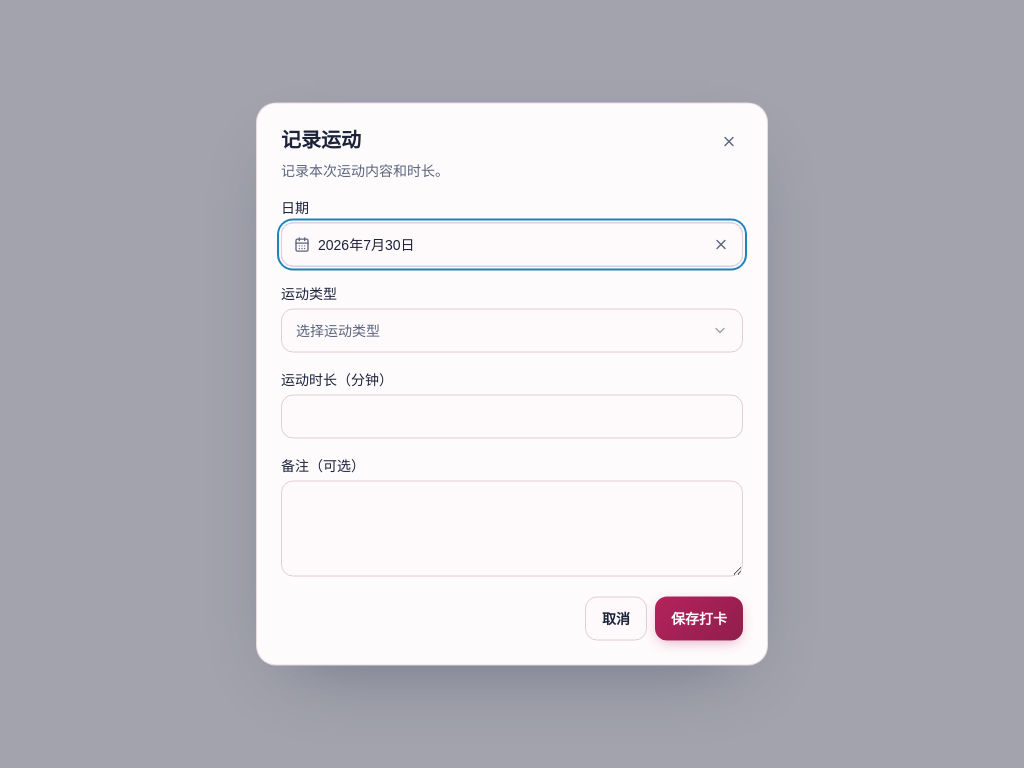
Test case: CheckinDialog › rejects durations above one day
Step 1. Click the dropdown labelled "运动类型" → click(338, 330), box [281,308,743,352]
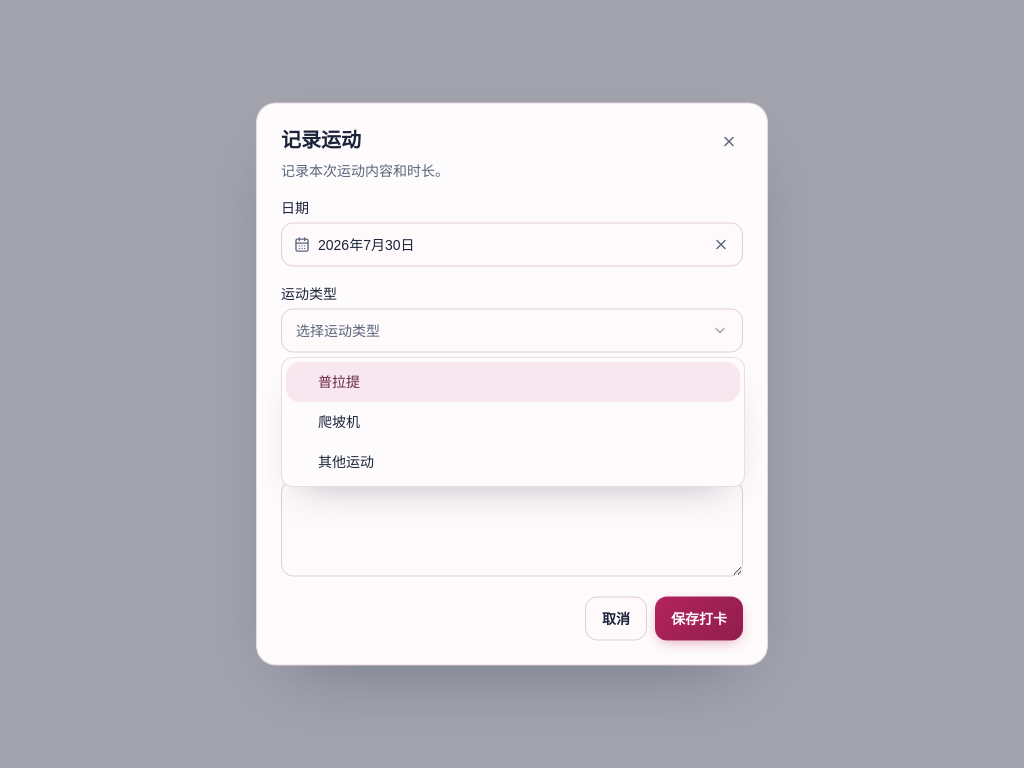
Step 2. Press Arrowdown Enter
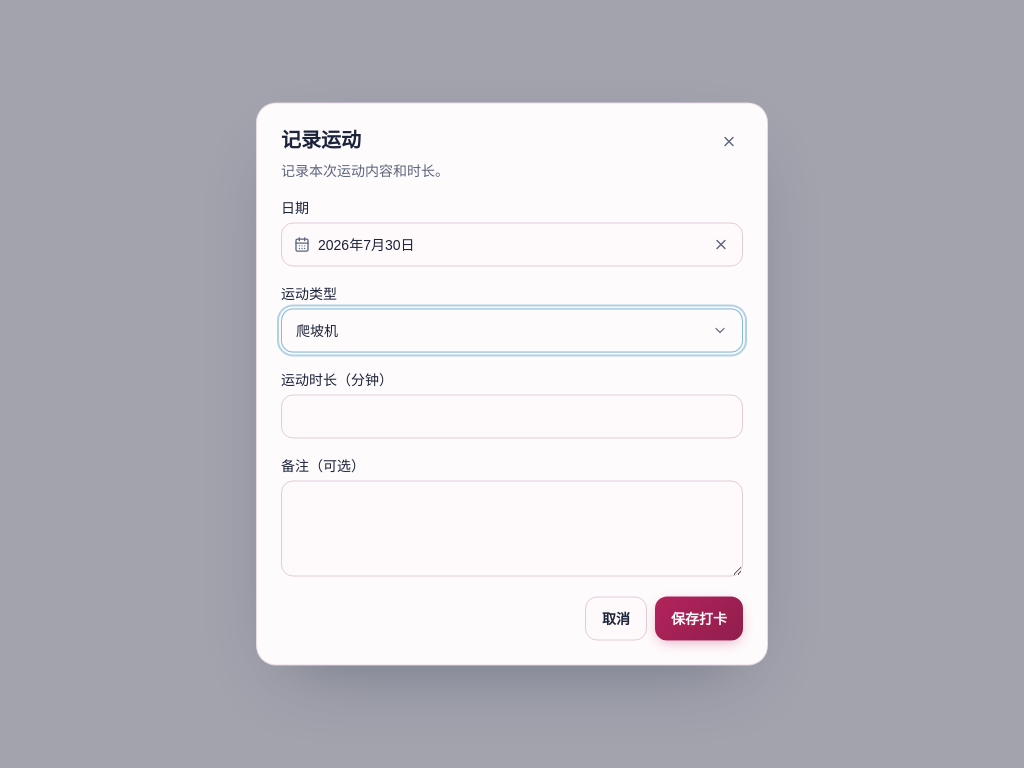
Step 3. Type "1441" into the number field labelled "运动时长（分钟）" → (512, 416), box [281,394,743,438]
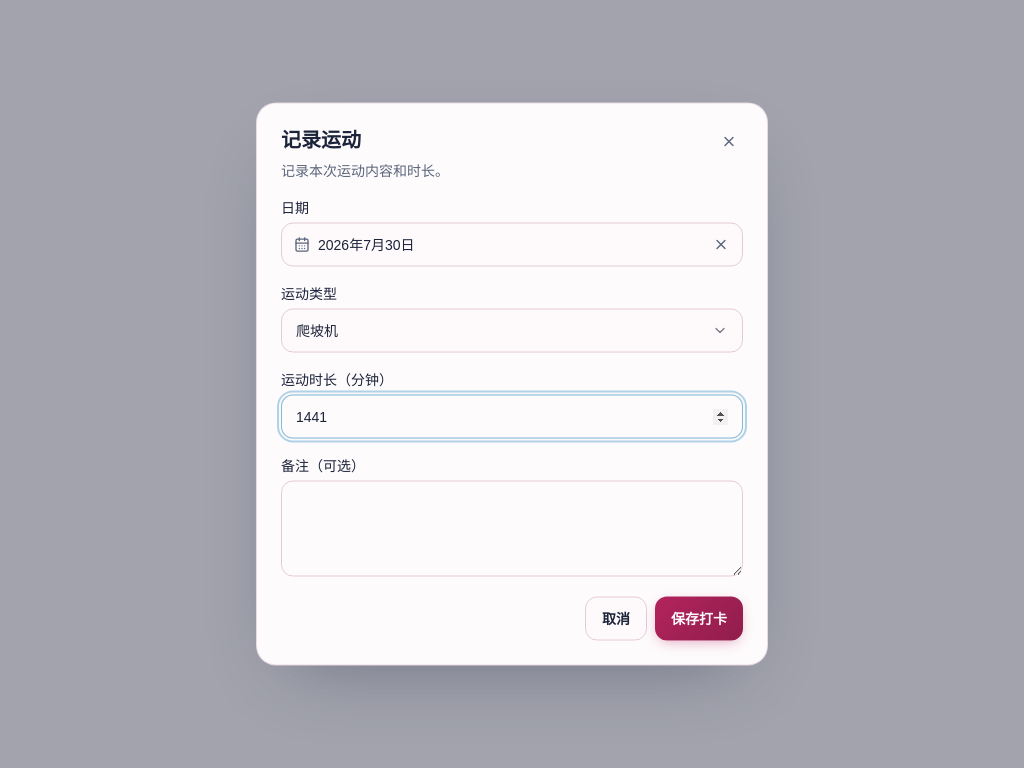
Step 4. Click the button "保存打卡" → click(699, 618), box [655,596,743,640]
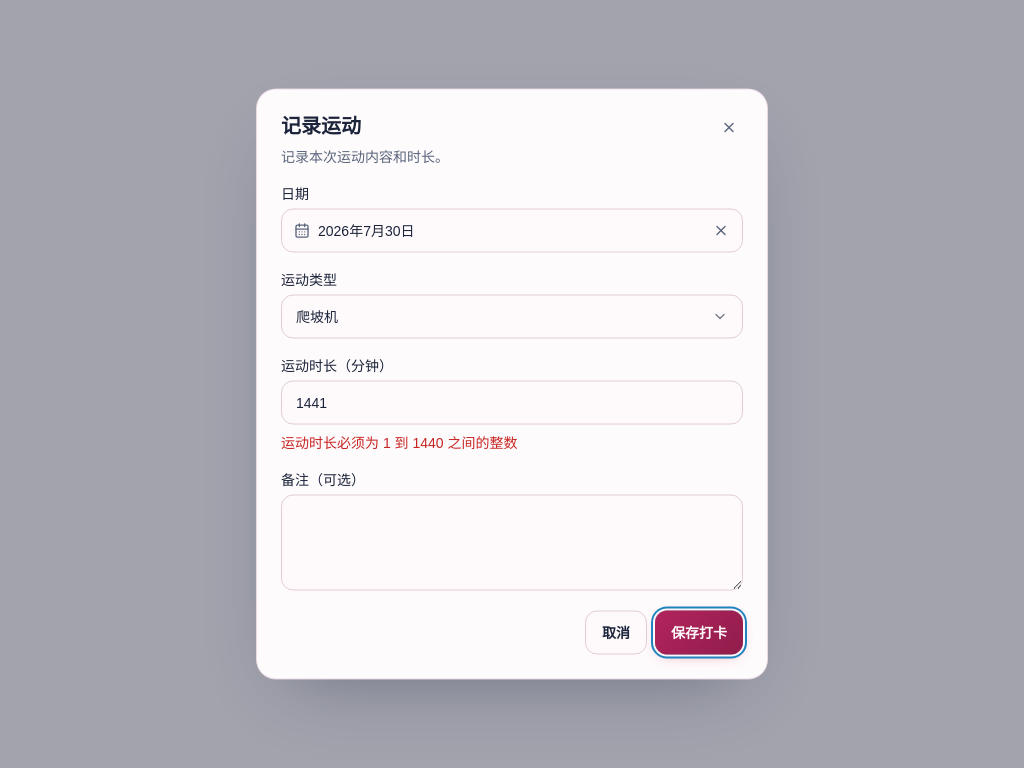
Expected: the text "运动时长必须为 1 到 1440 之间的整数" is shown, [281,434,518,450]
